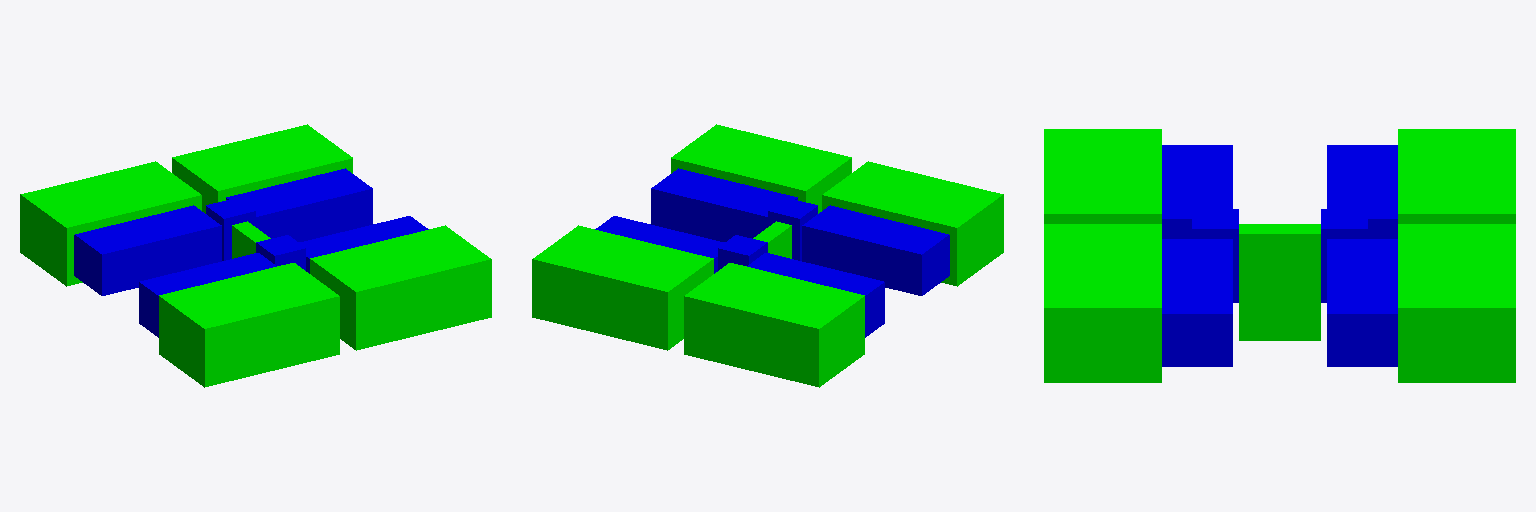
--- Facts derived from the render (not from the file) ---
The picture shows the robot from 3 angles, left to right: view 1: azimuth 30°, elevation 25°; view 2: azimuth 150°, elevation 25°; view 3: azimuth 270°, elevation 25°; orthographic projection.
Robot: robot — 47 links, 46 joints (46 revolute); root link root; default pose: every joint at zero.
Visible links, largest first — view 1: [phone redacted] (×36), 000, 000-100, 000-131; view 2: [phone redacted] (×36), 000, 000-101, 000-130; view 3: [phone redacted] (×36), 000, 010, 000-100, 000-101.
Boxes of the visible links, bbox=[...] form: [phone redacted] (×36): bbox=[20, 124, 491, 387]; 000: bbox=[232, 221, 270, 258]; 000-100: bbox=[219, 208, 255, 260]; 000-131: bbox=[270, 245, 305, 270]; [phone redacted] (×36): bbox=[532, 124, 1003, 387]; 000: bbox=[753, 221, 791, 258]; 000-101: bbox=[768, 208, 804, 260]; 000-130: bbox=[718, 245, 753, 270]; [phone redacted] (×36): bbox=[1044, 129, 1515, 382]; 000: bbox=[1239, 224, 1320, 287]; 010: bbox=[1239, 288, 1320, 340]; 000-100: bbox=[1321, 209, 1332, 302]; 000-101: bbox=[1227, 209, 1238, 302].
Size in the robot's own frame: 3.6 by 4 by 1.1 metres.
Geometry: primitives only (box / cylinder / sphere), no mesh files.

robot.urdf — robot:
<robot name = "robot">
    <link name="root">
        <inertial>
            <origin xyz="0.0 0.0 1.5" rpy="0 0 0"/>
            <mass value="1" />
            <inertia ixx="100" ixy="0" ixz="0" iyy="100" iyz="0" izz="100" />
        </inertial>
        <visual>
            <origin xyz="0.0 0.0 1.5" rpy="0 0 0"/>
            <geometry>
                <box size="0 0 0.0001" />
            </geometry>
            <material name="Green">
                <color rgba="0 1.0 0.0 1.0"/>
            </material>
        </visual>
        <collision>
            <origin xyz="0.0 0.0 1.5" rpy="0 0 0"/>
            <geometry>
                <box size="0 0 0.0001" />
            </geometry>
        </collision>
    </link>
    <joint name="root_000" type="revolute">
       <parent link="root"/>
       <child  link="000"/>
       <origin rpy="0 0 0" xyz="0.0 0.0 1.5" />
     <axis xyz="1 0 0"/>
       <limit effort="0.0" lower="-3.14159" upper="3.14159" velocity="0.0"/>
    </joint>
    <link name="000">
        <inertial>
            <origin xyz="0.0 0.0 -0.25" rpy="0 0 0"/>
            <mass value="1" />
            <inertia ixx="100" ixy="0" ixz="0" iyy="100" iyz="0" izz="100" />
        </inertial>
        <visual>
            <origin xyz="0.0 0.0 -0.25" rpy="0 0 0"/>
            <geometry>
                <box size="0.2 0.7 0.5" />
            </geometry>
            <material name="Green">
                <color rgba="0 1.0 0.0 1.0"/>
            </material>
        </visual>
        <collision>
            <origin xyz="0.0 0.0 -0.25" rpy="0 0 0"/>
            <geometry>
                <box size="0.2 0.7 0.5" />
            </geometry>
        </collision>
    </link>
    <joint name="000_010" type="revolute">
       <parent link="000"/>
       <child  link="010"/>
       <origin rpy="0 0 0" xyz="0.0 0.0 -0.5" />
     <axis xyz="0 0 1"/>
       <limit effort="0.0" lower="-3.14159" upper="3.14159" velocity="0.0"/>
    </joint>
    <link name="010">
        <inertial>
            <origin xyz="0.0 0.0 -0.25" rpy="0 0 0"/>
            <mass value="1" />
            <inertia ixx="100" ixy="0" ixz="0" iyy="100" iyz="0" izz="100" />
        </inertial>
        <visual>
            <origin xyz="0.0 0.0 -0.25" rpy="0 0 0"/>
            <geometry>
                <box size="0.2 0.7 0.5" />
            </geometry>
            <material name="Green">
                <color rgba="0 1.0 0.0 1.0"/>
            </material>
        </visual>
        <collision>
            <origin xyz="0.0 0.0 -0.25" rpy="0 0 0"/>
            <geometry>
                <box size="0.2 0.7 0.5" />
            </geometry>
        </collision>
    </link>
    <joint name="000_000-100" type="revolute">
       <parent link="000"/>
       <child  link="000-100"/>
       <origin rpy="0 0 0" xyz="0.0 0.35 -0.25" />
     <axis xyz="0 1 0"/>
       <limit effort="0.0" lower="-3.14159" upper="3.14159" velocity="0.0"/>
    </joint>
    <link name="000-100">
        <inertial>
            <origin xyz="0.0 0.05 -0.0" rpy="0 0 0"/>
            <mass value="1" />
            <inertia ixx="100" ixy="0" ixz="0" iyy="100" iyz="0" izz="100" />
        </inertial>
        <visual>
            <origin xyz="0.0 0.05 -0.0" rpy="0 0 0"/>
            <geometry>
                <box size="0.4 0.1 0.7" />
            </geometry>
            <material name="Blue">
                <color rgba="0 0.0 1.0 1.0"/>
            </material>
        </visual>
        <collision>
            <origin xyz="0.0 0.05 -0.0" rpy="0 0 0"/>
            <geometry>
                <box size="0.4 0.1 0.7" />
            </geometry>
        </collision>
    </link>
    <joint name="000-100_000-110" type="revolute">
       <parent link="000-100"/>
       <child  link="000-110"/>
       <origin rpy="0 0 0" xyz="0.0 0.1 -0.0" />
     <axis xyz="0 1 0"/>
       <limit effort="0.0" lower="-3.14159" upper="3.14159" velocity="0.0"/>
    </joint>
    <link name="000-110">
        <inertial>
            <origin xyz="0.0 0.05 -0.0" rpy="0 0 0"/>
            <mass value="1" />
            <inertia ixx="100" ixy="0" ixz="0" iyy="100" iyz="0" izz="100" />
        </inertial>
        <visual>
            <origin xyz="0.0 0.05 -0.0" rpy="0 0 0"/>
            <geometry>
                <box size="0.4 0.1 0.7" />
            </geometry>
            <material name="Blue">
                <color rgba="0 0.0 1.0 1.0"/>
            </material>
        </visual>
        <collision>
            <origin xyz="0.0 0.05 -0.0" rpy="0 0 0"/>
            <geometry>
                <box size="0.4 0.1 0.7" />
            </geometry>
        </collision>
    </link>
    <joint name="000-110_000-120" type="revolute">
       <parent link="000-110"/>
       <child  link="000-120"/>
       <origin rpy="0 0 0" xyz="0.0 0.1 -0.0" />
     <axis xyz="0 1 0"/>
       <limit effort="0.0" lower="-3.14159" upper="3.14159" velocity="0.0"/>
    </joint>
    <link name="000-120">
        <inertial>
            <origin xyz="0.0 0.05 -0.0" rpy="0 0 0"/>
            <mass value="1" />
            <inertia ixx="100" ixy="0" ixz="0" iyy="100" iyz="0" izz="100" />
        </inertial>
        <visual>
            <origin xyz="0.0 0.05 -0.0" rpy="0 0 0"/>
            <geometry>
                <box size="0.4 0.1 0.7" />
            </geometry>
            <material name="Blue">
                <color rgba="0 0.0 1.0 1.0"/>
            </material>
        </visual>
        <collision>
            <origin xyz="0.0 0.05 -0.0" rpy="0 0 0"/>
            <geometry>
                <box size="0.4 0.1 0.7" />
            </geometry>
        </collision>
    </link>
    <joint name="000-120_000-130" type="revolute">
       <parent link="000-120"/>
       <child  link="000-130"/>
       <origin rpy="0 0 0" xyz="0.0 0.1 -0.0" />
     <axis xyz="0 1 0"/>
       <limit effort="0.0" lower="-3.14159" upper="3.14159" velocity="0.0"/>
    </joint>
    <link name="000-130">
        <inertial>
            <origin xyz="0.0 0.05 -0.0" rpy="0 0 0"/>
            <mass value="1" />
            <inertia ixx="100" ixy="0" ixz="0" iyy="100" iyz="0" izz="100" />
        </inertial>
        <visual>
            <origin xyz="0.0 0.05 -0.0" rpy="0 0 0"/>
            <geometry>
                <box size="0.4 0.1 0.7" />
            </geometry>
            <material name="Blue">
                <color rgba="0 0.0 1.0 1.0"/>
            </material>
        </visual>
        <collision>
            <origin xyz="0.0 0.05 -0.0" rpy="0 0 0"/>
            <geometry>
                <box size="0.4 0.1 0.7" />
            </geometry>
        </collision>
    </link>
    <joint name="000-130_000-130-200" type="revolute">
       <parent link="000-130"/>
       <child  link="000-130-200"/>
       <origin rpy="0 0 0" xyz="0.2 0.05 -0.0" />
     <axis xyz="1 0 0"/>
       <limit effort="0.0" lower="-3.14159" upper="3.14159" velocity="0.0"/>
    </joint>
    <link name="000-130-200">
        <inertial>
            <origin xyz="0.25 0.0 -0.0" rpy="0 0 0"/>
            <mass value="1" />
            <inertia ixx="100" ixy="0" ixz="0" iyy="100" iyz="0" izz="100" />
        </inertial>
        <visual>
            <origin xyz="0.25 0.0 -0.0" rpy="0 0 0"/>
            <geometry>
                <box size="0.5 0.6 0.5" />
            </geometry>
            <material name="Blue">
                <color rgba="0 0.0 1.0 1.0"/>
            </material>
        </visual>
        <collision>
            <origin xyz="0.25 0.0 -0.0" rpy="0 0 0"/>
            <geometry>
                <box size="0.5 0.6 0.5" />
            </geometry>
        </collision>
    </link>
    <joint name="000-130-200_000-130-210" type="revolute">
       <parent link="000-130-200"/>
       <child  link="000-130-210"/>
       <origin rpy="0 0 0" xyz="0.5 0.0 -0.0" />
     <axis xyz="1 0 0"/>
       <limit effort="0.0" lower="-3.14159" upper="3.14159" velocity="0.0"/>
    </joint>
    <link name="000-130-210">
        <inertial>
            <origin xyz="0.25 0.0 -0.0" rpy="0 0 0"/>
            <mass value="1" />
            <inertia ixx="100" ixy="0" ixz="0" iyy="100" iyz="0" izz="100" />
        </inertial>
        <visual>
            <origin xyz="0.25 0.0 -0.0" rpy="0 0 0"/>
            <geometry>
                <box size="0.5 0.6 0.5" />
            </geometry>
            <material name="Blue">
                <color rgba="0 0.0 1.0 1.0"/>
            </material>
        </visual>
        <collision>
            <origin xyz="0.25 0.0 -0.0" rpy="0 0 0"/>
            <geometry>
                <box size="0.5 0.6 0.5" />
            </geometry>
        </collision>
    </link>
    <joint name="000-130-210_000-130-220" type="revolute">
       <parent link="000-130-210"/>
       <child  link="000-130-220"/>
       <origin rpy="0 0 0" xyz="0.5 0.0 -0.0" />
     <axis xyz="1 0 0"/>
       <limit effort="0.0" lower="-3.14159" upper="3.14159" velocity="0.0"/>
    </joint>
    <link name="000-130-220">
        <inertial>
            <origin xyz="0.25 0.0 -0.0" rpy="0 0 0"/>
            <mass value="1" />
            <inertia ixx="100" ixy="0" ixz="0" iyy="100" iyz="0" izz="100" />
        </inertial>
        <visual>
            <origin xyz="0.25 0.0 -0.0" rpy="0 0 0"/>
            <geometry>
                <box size="0.5 0.6 0.5" />
            </geometry>
            <material name="Blue">
                <color rgba="0 0.0 1.0 1.0"/>
            </material>
        </visual>
        <collision>
            <origin xyz="0.25 0.0 -0.0" rpy="0 0 0"/>
            <geometry>
                <box size="0.5 0.6 0.5" />
            </geometry>
        </collision>
    </link>
    <joint name="000-130-220_000-130-220-300" type="revolute">
       <parent link="000-130-220"/>
       <child  link="000-130-220-300"/>
       <origin rpy="0 0 0" xyz="0.25 0.3 -0.0" />
     <axis xyz="0 1 0"/>
       <limit effort="0.0" lower="-3.14159" upper="3.14159" velocity="0.0"/>
    </joint>
    <link name="000-130-220-300">
        <inertial>
            <origin xyz="0.0 0.25 -0.0" rpy="0 0 0"/>
            <mass value="1" />
            <inertia ixx="100" ixy="0" ixz="0" iyy="100" iyz="0" izz="100" />
        </inertial>
        <visual>
            <origin xyz="0.0 0.25 -0.0" rpy="0 0 0"/>
            <geometry>
                <box size="0.7 0.5 0.7" />
            </geometry>
            <material name="Green">
                <color rgba="0 1.0 0.0 1.0"/>
            </material>
        </visual>
        <collision>
            <origin xyz="0.0 0.25 -0.0" rpy="0 0 0"/>
            <geometry>
                <box size="0.7 0.5 0.7" />
            </geometry>
        </collision>
    </link>
    <joint name="000-130-220-300_000-130-220-310" type="revolute">
       <parent link="000-130-220-300"/>
       <child  link="000-130-220-310"/>
       <origin rpy="0 0 0" xyz="0.0 0.5 -0.0" />
     <axis xyz="0 1 0"/>
       <limit effort="0.0" lower="-3.14159" upper="3.14159" velocity="0.0"/>
    </joint>
    <link name="000-130-220-310">
        <inertial>
            <origin xyz="0.0 0.25 -0.0" rpy="0 0 0"/>
            <mass value="1" />
            <inertia ixx="100" ixy="0" ixz="0" iyy="100" iyz="0" izz="100" />
        </inertial>
        <visual>
            <origin xyz="0.0 0.25 -0.0" rpy="0 0 0"/>
            <geometry>
                <box size="0.7 0.5 0.7" />
            </geometry>
            <material name="Green">
                <color rgba="0 1.0 0.0 1.0"/>
            </material>
        </visual>
        <collision>
            <origin xyz="0.0 0.25 -0.0" rpy="0 0 0"/>
            <geometry>
                <box size="0.7 0.5 0.7" />
            </geometry>
        </collision>
    </link>
    <joint name="000-130-210_000-130-210-300" type="revolute">
       <parent link="000-130-210"/>
       <child  link="000-130-210-300"/>
       <origin rpy="0 0 0" xyz="0.25 0.3 -0.0" />
     <axis xyz="0 1 0"/>
       <limit effort="0.0" lower="-3.14159" upper="3.14159" velocity="0.0"/>
    </joint>
    <link name="000-130-210-300">
        <inertial>
            <origin xyz="0.0 0.25 -0.0" rpy="0 0 0"/>
            <mass value="1" />
            <inertia ixx="100" ixy="0" ixz="0" iyy="100" iyz="0" izz="100" />
        </inertial>
        <visual>
            <origin xyz="0.0 0.25 -0.0" rpy="0 0 0"/>
            <geometry>
                <box size="0.7 0.5 0.7" />
            </geometry>
            <material name="Green">
                <color rgba="0 1.0 0.0 1.0"/>
            </material>
        </visual>
        <collision>
            <origin xyz="0.0 0.25 -0.0" rpy="0 0 0"/>
            <geometry>
                <box size="0.7 0.5 0.7" />
            </geometry>
        </collision>
    </link>
    <joint name="000-130-210-300_000-130-210-310" type="revolute">
       <parent link="000-130-210-300"/>
       <child  link="000-130-210-310"/>
       <origin rpy="0 0 0" xyz="0.0 0.5 -0.0" />
     <axis xyz="0 1 0"/>
       <limit effort="0.0" lower="-3.14159" upper="3.14159" velocity="0.0"/>
    </joint>
    <link name="000-130-210-310">
        <inertial>
            <origin xyz="0.0 0.25 -0.0" rpy="0 0 0"/>
            <mass value="1" />
            <inertia ixx="100" ixy="0" ixz="0" iyy="100" iyz="0" izz="100" />
        </inertial>
        <visual>
            <origin xyz="0.0 0.25 -0.0" rpy="0 0 0"/>
            <geometry>
                <box size="0.7 0.5 0.7" />
            </geometry>
            <material name="Green">
                <color rgba="0 1.0 0.0 1.0"/>
            </material>
        </visual>
        <collision>
            <origin xyz="0.0 0.25 -0.0" rpy="0 0 0"/>
            <geometry>
                <box size="0.7 0.5 0.7" />
            </geometry>
        </collision>
    </link>
    <joint name="000-130-200_000-130-200-300" type="revolute">
       <parent link="000-130-200"/>
       <child  link="000-130-200-300"/>
       <origin rpy="0 0 0" xyz="0.25 0.3 -0.0" />
     <axis xyz="0 1 0"/>
       <limit effort="0.0" lower="-3.14159" upper="3.14159" velocity="0.0"/>
    </joint>
    <link name="000-130-200-300">
        <inertial>
            <origin xyz="0.0 0.25 -0.0" rpy="0 0 0"/>
            <mass value="1" />
            <inertia ixx="100" ixy="0" ixz="0" iyy="100" iyz="0" izz="100" />
        </inertial>
        <visual>
            <origin xyz="0.0 0.25 -0.0" rpy="0 0 0"/>
            <geometry>
                <box size="0.7 0.5 0.7" />
            </geometry>
            <material name="Green">
                <color rgba="0 1.0 0.0 1.0"/>
            </material>
        </visual>
        <collision>
            <origin xyz="0.0 0.25 -0.0" rpy="0 0 0"/>
            <geometry>
                <box size="0.7 0.5 0.7" />
            </geometry>
        </collision>
    </link>
    <joint name="000-130-200-300_000-130-200-310" type="revolute">
       <parent link="000-130-200-300"/>
       <child  link="000-130-200-310"/>
       <origin rpy="0 0 0" xyz="0.0 0.5 -0.0" />
     <axis xyz="0 1 0"/>
       <limit effort="0.0" lower="-3.14159" upper="3.14159" velocity="0.0"/>
    </joint>
    <link name="000-130-200-310">
        <inertial>
            <origin xyz="0.0 0.25 -0.0" rpy="0 0 0"/>
            <mass value="1" />
            <inertia ixx="100" ixy="0" ixz="0" iyy="100" iyz="0" izz="100" />
        </inertial>
        <visual>
            <origin xyz="0.0 0.25 -0.0" rpy="0 0 0"/>
            <geometry>
                <box size="0.7 0.5 0.7" />
            </geometry>
            <material name="Green">
                <color rgba="0 1.0 0.0 1.0"/>
            </material>
        </visual>
        <collision>
            <origin xyz="0.0 0.25 -0.0" rpy="0 0 0"/>
            <geometry>
                <box size="0.7 0.5 0.7" />
            </geometry>
        </collision>
    </link>
    <joint name="000-130_000-130-201" type="revolute">
       <parent link="000-130"/>
       <child  link="000-130-201"/>
       <origin rpy="0 0 0" xyz="-0.2 0.05 -0.0" />
     <axis xyz="1 0 0"/>
       <limit effort="0.0" lower="-3.14159" upper="3.14159" velocity="0.0"/>
    </joint>
    <link name="000-130-201">
        <inertial>
            <origin xyz="-0.25 0.0 -0.0" rpy="0 0 0"/>
            <mass value="1" />
            <inertia ixx="100" ixy="0" ixz="0" iyy="100" iyz="0" izz="100" />
        </inertial>
        <visual>
            <origin xyz="-0.25 0.0 -0.0" rpy="0 0 0"/>
            <geometry>
                <box size="0.5 0.6 0.5" />
            </geometry>
            <material name="Blue">
                <color rgba="0 0.0 1.0 1.0"/>
            </material>
        </visual>
        <collision>
            <origin xyz="-0.25 0.0 -0.0" rpy="0 0 0"/>
            <geometry>
                <box size="0.5 0.6 0.5" />
            </geometry>
        </collision>
    </link>
    <joint name="000-130-201_000-130-211" type="revolute">
       <parent link="000-130-201"/>
       <child  link="000-130-211"/>
       <origin rpy="0 0 0" xyz="-0.5 0.0 -0.0" />
     <axis xyz="1 0 0"/>
       <limit effort="0.0" lower="-3.14159" upper="3.14159" velocity="0.0"/>
    </joint>
    <link name="000-130-211">
        <inertial>
            <origin xyz="-0.25 0.0 -0.0" rpy="0 0 0"/>
            <mass value="1" />
            <inertia ixx="100" ixy="0" ixz="0" iyy="100" iyz="0" izz="100" />
        </inertial>
        <visual>
            <origin xyz="-0.25 0.0 -0.0" rpy="0 0 0"/>
            <geometry>
                <box size="0.5 0.6 0.5" />
            </geometry>
            <material name="Blue">
                <color rgba="0 0.0 1.0 1.0"/>
            </material>
        </visual>
        <collision>
            <origin xyz="-0.25 0.0 -0.0" rpy="0 0 0"/>
            <geometry>
                <box size="0.5 0.6 0.5" />
            </geometry>
        </collision>
    </link>
    <joint name="000-130-211_000-130-221" type="revolute">
       <parent link="000-130-211"/>
       <child  link="000-130-221"/>
       <origin rpy="0 0 0" xyz="-0.5 0.0 -0.0" />
     <axis xyz="1 0 0"/>
       <limit effort="0.0" lower="-3.14159" upper="3.14159" velocity="0.0"/>
    </joint>
    <link name="000-130-221">
        <inertial>
            <origin xyz="-0.25 0.0 -0.0" rpy="0 0 0"/>
            <mass value="1" />
            <inertia ixx="100" ixy="0" ixz="0" iyy="100" iyz="0" izz="100" />
        </inertial>
        <visual>
            <origin xyz="-0.25 0.0 -0.0" rpy="0 0 0"/>
            <geometry>
                <box size="0.5 0.6 0.5" />
            </geometry>
            <material name="Blue">
                <color rgba="0 0.0 1.0 1.0"/>
            </material>
        </visual>
        <collision>
            <origin xyz="-0.25 0.0 -0.0" rpy="0 0 0"/>
            <geometry>
                <box size="0.5 0.6 0.5" />
            </geometry>
        </collision>
    </link>
    <joint name="000-130-221_000-130-221-300" type="revolute">
       <parent link="000-130-221"/>
       <child  link="000-130-221-300"/>
       <origin rpy="0 0 0" xyz="-0.25 0.3 -0.0" />
     <axis xyz="0 1 0"/>
       <limit effort="0.0" lower="-3.14159" upper="3.14159" velocity="0.0"/>
    </joint>
    <link name="000-130-221-300">
        <inertial>
            <origin xyz="-0.0 0.25 -0.0" rpy="0 0 0"/>
            <mass value="1" />
            <inertia ixx="100" ixy="0" ixz="0" iyy="100" iyz="0" izz="100" />
        </inertial>
        <visual>
            <origin xyz="-0.0 0.25 -0.0" rpy="0 0 0"/>
            <geometry>
                <box size="0.7 0.5 0.7" />
            </geometry>
            <material name="Green">
                <color rgba="0 1.0 0.0 1.0"/>
            </material>
        </visual>
        <collision>
            <origin xyz="-0.0 0.25 -0.0" rpy="0 0 0"/>
            <geometry>
                <box size="0.7 0.5 0.7" />
            </geometry>
        </collision>
    </link>
    <joint name="000-130-221-300_000-130-221-310" type="revolute">
       <parent link="000-130-221-300"/>
       <child  link="000-130-221-310"/>
       <origin rpy="0 0 0" xyz="-0.0 0.5 -0.0" />
     <axis xyz="0 1 0"/>
       <limit effort="0.0" lower="-3.14159" upper="3.14159" velocity="0.0"/>
    </joint>
    <link name="000-130-221-310">
        <inertial>
            <origin xyz="-0.0 0.25 -0.0" rpy="0 0 0"/>
            <mass value="1" />
            <inertia ixx="100" ixy="0" ixz="0" iyy="100" iyz="0" izz="100" />
        </inertial>
        <visual>
            <origin xyz="-0.0 0.25 -0.0" rpy="0 0 0"/>
            <geometry>
                <box size="0.7 0.5 0.7" />
            </geometry>
            <material name="Green">
                <color rgba="0 1.0 0.0 1.0"/>
            </material>
        </visual>
        <collision>
            <origin xyz="-0.0 0.25 -0.0" rpy="0 0 0"/>
            <geometry>
                <box size="0.7 0.5 0.7" />
            </geometry>
        </collision>
    </link>
    <joint name="000-130-211_000-130-211-300" type="revolute">
       <parent link="000-130-211"/>
       <child  link="000-130-211-300"/>
       <origin rpy="0 0 0" xyz="-0.25 0.3 -0.0" />
     <axis xyz="0 1 0"/>
       <limit effort="0.0" lower="-3.14159" upper="3.14159" velocity="0.0"/>
    </joint>
    <link name="000-130-211-300">
        <inertial>
            <origin xyz="-0.0 0.25 -0.0" rpy="0 0 0"/>
            <mass value="1" />
            <inertia ixx="100" ixy="0" ixz="0" iyy="100" iyz="0" izz="100" />
        </inertial>
        <visual>
            <origin xyz="-0.0 0.25 -0.0" rpy="0 0 0"/>
            <geometry>
                <box size="0.7 0.5 0.7" />
            </geometry>
            <material name="Green">
                <color rgba="0 1.0 0.0 1.0"/>
            </material>
        </visual>
        <collision>
            <origin xyz="-0.0 0.25 -0.0" rpy="0 0 0"/>
            <geometry>
                <box size="0.7 0.5 0.7" />
            </geometry>
        </collision>
    </link>
    <joint name="000-130-211-300_000-130-211-310" type="revolute">
       <parent link="000-130-211-300"/>
       <child  link="000-130-211-310"/>
       <origin rpy="0 0 0" xyz="-0.0 0.5 -0.0" />
     <axis xyz="0 1 0"/>
       <limit effort="0.0" lower="-3.14159" upper="3.14159" velocity="0.0"/>
    </joint>
    <link name="000-130-211-310">
        <inertial>
            <origin xyz="-0.0 0.25 -0.0" rpy="0 0 0"/>
            <mass value="1" />
            <inertia ixx="100" ixy="0" ixz="0" iyy="100" iyz="0" izz="100" />
        </inertial>
        <visual>
            <origin xyz="-0.0 0.25 -0.0" rpy="0 0 0"/>
            <geometry>
                <box size="0.7 0.5 0.7" />
            </geometry>
            <material name="Green">
                <color rgba="0 1.0 0.0 1.0"/>
            </material>
        </visual>
        <collision>
            <origin xyz="-0.0 0.25 -0.0" rpy="0 0 0"/>
            <geometry>
                <box size="0.7 0.5 0.7" />
            </geometry>
        </collision>
    </link>
    <joint name="000-130-201_000-130-201-300" type="revolute">
       <parent link="000-130-201"/>
       <child  link="000-130-201-300"/>
       <origin rpy="0 0 0" xyz="-0.25 0.3 -0.0" />
     <axis xyz="0 1 0"/>
       <limit effort="0.0" lower="-3.14159" upper="3.14159" velocity="0.0"/>
    </joint>
    <link name="000-130-201-300">
        <inertial>
            <origin xyz="-0.0 0.25 -0.0" rpy="0 0 0"/>
            <mass value="1" />
            <inertia ixx="100" ixy="0" ixz="0" iyy="100" iyz="0" izz="100" />
        </inertial>
        <visual>
            <origin xyz="-0.0 0.25 -0.0" rpy="0 0 0"/>
            <geometry>
                <box size="0.7 0.5 0.7" />
            </geometry>
            <material name="Green">
                <color rgba="0 1.0 0.0 1.0"/>
            </material>
        </visual>
        <collision>
            <origin xyz="-0.0 0.25 -0.0" rpy="0 0 0"/>
            <geometry>
                <box size="0.7 0.5 0.7" />
            </geometry>
        </collision>
    </link>
    <joint name="000-130-201-300_000-130-201-310" type="revolute">
       <parent link="000-130-201-300"/>
       <child  link="000-130-201-310"/>
       <origin rpy="0 0 0" xyz="-0.0 0.5 -0.0" />
     <axis xyz="0 1 0"/>
       <limit effort="0.0" lower="-3.14159" upper="3.14159" velocity="0.0"/>
    </joint>
    <link name="000-130-201-310">
        <inertial>
            <origin xyz="-0.0 0.25 -0.0" rpy="0 0 0"/>
            <mass value="1" />
            <inertia ixx="100" ixy="0" ixz="0" iyy="100" iyz="0" izz="100" />
        </inertial>
        <visual>
            <origin xyz="-0.0 0.25 -0.0" rpy="0 0 0"/>
            <geometry>
                <box size="0.7 0.5 0.7" />
            </geometry>
            <material name="Green">
                <color rgba="0 1.0 0.0 1.0"/>
            </material>
        </visual>
        <collision>
            <origin xyz="-0.0 0.25 -0.0" rpy="0 0 0"/>
            <geometry>
                <box size="0.7 0.5 0.7" />
            </geometry>
        </collision>
    </link>
    <joint name="000_000-101" type="revolute">
       <parent link="000"/>
       <child  link="000-101"/>
       <origin rpy="0 0 0" xyz="0.0 -0.35 -0.25" />
     <axis xyz="0 1 0"/>
       <limit effort="0.0" lower="-3.14159" upper="3.14159" velocity="0.0"/>
    </joint>
    <link name="000-101">
        <inertial>
            <origin xyz="0.0 -0.05 -0.0" rpy="0 0 0"/>
            <mass value="1" />
            <inertia ixx="100" ixy="0" ixz="0" iyy="100" iyz="0" izz="100" />
        </inertial>
        <visual>
            <origin xyz="0.0 -0.05 -0.0" rpy="0 0 0"/>
            <geometry>
                <box size="0.4 0.1 0.7" />
            </geometry>
            <material name="Blue">
                <color rgba="0 0.0 1.0 1.0"/>
            </material>
        </visual>
        <collision>
            <origin xyz="0.0 -0.05 -0.0" rpy="0 0 0"/>
            <geometry>
                <box size="0.4 0.1 0.7" />
            </geometry>
        </collision>
    </link>
    <joint name="000-101_000-111" type="revolute">
       <parent link="000-101"/>
       <child  link="000-111"/>
       <origin rpy="0 0 0" xyz="0.0 -0.1 -0.0" />
     <axis xyz="0 1 0"/>
       <limit effort="0.0" lower="-3.14159" upper="3.14159" velocity="0.0"/>
    </joint>
    <link name="000-111">
        <inertial>
            <origin xyz="0.0 -0.05 -0.0" rpy="0 0 0"/>
            <mass value="1" />
            <inertia ixx="100" ixy="0" ixz="0" iyy="100" iyz="0" izz="100" />
        </inertial>
        <visual>
            <origin xyz="0.0 -0.05 -0.0" rpy="0 0 0"/>
            <geometry>
                <box size="0.4 0.1 0.7" />
            </geometry>
            <material name="Blue">
                <color rgba="0 0.0 1.0 1.0"/>
            </material>
        </visual>
        <collision>
            <origin xyz="0.0 -0.05 -0.0" rpy="0 0 0"/>
            <geometry>
                <box size="0.4 0.1 0.7" />
            </geometry>
        </collision>
    </link>
    <joint name="000-111_000-121" type="revolute">
       <parent link="000-111"/>
       <child  link="000-121"/>
       <origin rpy="0 0 0" xyz="0.0 -0.1 -0.0" />
     <axis xyz="0 1 0"/>
       <limit effort="0.0" lower="-3.14159" upper="3.14159" velocity="0.0"/>
    </joint>
    <link name="000-121">
        <inertial>
            <origin xyz="0.0 -0.05 -0.0" rpy="0 0 0"/>
            <mass value="1" />
            <inertia ixx="100" ixy="0" ixz="0" iyy="100" iyz="0" izz="100" />
        </inertial>
        <visual>
            <origin xyz="0.0 -0.05 -0.0" rpy="0 0 0"/>
            <geometry>
                <box size="0.4 0.1 0.7" />
            </geometry>
            <material name="Blue">
                <color rgba="0 0.0 1.0 1.0"/>
            </material>
        </visual>
        <collision>
            <origin xyz="0.0 -0.05 -0.0" rpy="0 0 0"/>
            <geometry>
                <box size="0.4 0.1 0.7" />
            </geometry>
        </collision>
    </link>
    <joint name="000-121_000-131" type="revolute">
       <parent link="000-121"/>
       <child  link="000-131"/>
       <origin rpy="0 0 0" xyz="0.0 -0.1 -0.0" />
     <axis xyz="0 1 0"/>
       <limit effort="0.0" lower="-3.14159" upper="3.14159" velocity="0.0"/>
    </joint>
    <link name="000-131">
        <inertial>
            <origin xyz="0.0 -0.05 -0.0" rpy="0 0 0"/>
            <mass value="1" />
            <inertia ixx="100" ixy="0" ixz="0" iyy="100" iyz="0" izz="100" />
        </inertial>
        <visual>
            <origin xyz="0.0 -0.05 -0.0" rpy="0 0 0"/>
            <geometry>
                <box size="0.4 0.1 0.7" />
            </geometry>
            <material name="Blue">
                <color rgba="0 0.0 1.0 1.0"/>
            </material>
        </visual>
        <collision>
            <origin xyz="0.0 -0.05 -0.0" rpy="0 0 0"/>
            <geometry>
                <box size="0.4 0.1 0.7" />
            </geometry>
        </collision>
    </link>
    <joint name="000-131_000-131-200" type="revolute">
       <parent link="000-131"/>
       <child  link="000-131-200"/>
       <origin rpy="0 0 0" xyz="0.2 -0.05 -0.0" />
     <axis xyz="1 0 0"/>
       <limit effort="0.0" lower="-3.14159" upper="3.14159" velocity="0.0"/>
    </joint>
    <link name="000-131-200">
        <inertial>
            <origin xyz="0.25 -0.0 -0.0" rpy="0 0 0"/>
            <mass value="1" />
            <inertia ixx="100" ixy="0" ixz="0" iyy="100" iyz="0" izz="100" />
        </inertial>
        <visual>
            <origin xyz="0.25 -0.0 -0.0" rpy="0 0 0"/>
            <geometry>
                <box size="0.5 0.6 0.5" />
            </geometry>
            <material name="Blue">
                <color rgba="0 0.0 1.0 1.0"/>
            </material>
        </visual>
        <collision>
            <origin xyz="0.25 -0.0 -0.0" rpy="0 0 0"/>
            <geometry>
                <box size="0.5 0.6 0.5" />
            </geometry>
        </collision>
    </link>
    <joint name="000-131-200_000-131-210" type="revolute">
       <parent link="000-131-200"/>
       <child  link="000-131-210"/>
       <origin rpy="0 0 0" xyz="0.5 -0.0 -0.0" />
     <axis xyz="1 0 0"/>
       <limit effort="0.0" lower="-3.14159" upper="3.14159" velocity="0.0"/>
    </joint>
    <link name="000-131-210">
        <inertial>
            <origin xyz="0.25 -0.0 -0.0" rpy="0 0 0"/>
            <mass value="1" />
            <inertia ixx="100" ixy="0" ixz="0" iyy="100" iyz="0" izz="100" />
        </inertial>
        <visual>
            <origin xyz="0.25 -0.0 -0.0" rpy="0 0 0"/>
            <geometry>
                <box size="0.5 0.6 0.5" />
            </geometry>
            <material name="Blue">
                <color rgba="0 0.0 1.0 1.0"/>
            </material>
        </visual>
        <collision>
            <origin xyz="0.25 -0.0 -0.0" rpy="0 0 0"/>
            <geometry>
                <box size="0.5 0.6 0.5" />
            </geometry>
        </collision>
    </link>
    <joint name="000-131-210_000-131-220" type="revolute">
       <parent link="000-131-210"/>
       <child  link="000-131-220"/>
       <origin rpy="0 0 0" xyz="0.5 -0.0 -0.0" />
     <axis xyz="1 0 0"/>
       <limit effort="0.0" lower="-3.14159" upper="3.14159" velocity="0.0"/>
    </joint>
    <link name="000-131-220">
        <inertial>
            <origin xyz="0.25 -0.0 -0.0" rpy="0 0 0"/>
            <mass value="1" />
            <inertia ixx="100" ixy="0" ixz="0" iyy="100" iyz="0" izz="100" />
        </inertial>
        <visual>
            <origin xyz="0.25 -0.0 -0.0" rpy="0 0 0"/>
            <geometry>
                <box size="0.5 0.6 0.5" />
            </geometry>
            <material name="Blue">
                <color rgba="0 0.0 1.0 1.0"/>
            </material>
        </visual>
        <collision>
            <origin xyz="0.25 -0.0 -0.0" rpy="0 0 0"/>
            <geometry>
                <box size="0.5 0.6 0.5" />
            </geometry>
        </collision>
    </link>
    <joint name="000-131-220_000-131-220-300" type="revolute">
       <parent link="000-131-220"/>
       <child  link="000-131-220-300"/>
       <origin rpy="0 0 0" xyz="0.25 -0.3 -0.0" />
     <axis xyz="0 1 0"/>
       <limit effort="0.0" lower="-3.14159" upper="3.14159" velocity="0.0"/>
    </joint>
    <link name="000-131-220-300">
        <inertial>
            <origin xyz="0.0 -0.25 -0.0" rpy="0 0 0"/>
            <mass value="1" />
            <inertia ixx="100" ixy="0" ixz="0" iyy="100" iyz="0" izz="100" />
        </inertial>
        <visual>
            <origin xyz="0.0 -0.25 -0.0" rpy="0 0 0"/>
            <geometry>
                <box size="0.7 0.5 0.7" />
            </geometry>
            <material name="Green">
                <color rgba="0 1.0 0.0 1.0"/>
            </material>
        </visual>
        <collision>
            <origin xyz="0.0 -0.25 -0.0" rpy="0 0 0"/>
            <geometry>
                <box size="0.7 0.5 0.7" />
            </geometry>
        </collision>
    </link>
    <joint name="000-131-220-300_000-131-220-310" type="revolute">
       <parent link="000-131-220-300"/>
       <child  link="000-131-220-310"/>
       <origin rpy="0 0 0" xyz="0.0 -0.5 -0.0" />
     <axis xyz="0 1 0"/>
       <limit effort="0.0" lower="-3.14159" upper="3.14159" velocity="0.0"/>
    </joint>
    <link name="000-131-220-310">
        <inertial>
            <origin xyz="0.0 -0.25 -0.0" rpy="0 0 0"/>
            <mass value="1" />
            <inertia ixx="100" ixy="0" ixz="0" iyy="100" iyz="0" izz="100" />
        </inertial>
        <visual>
            <origin xyz="0.0 -0.25 -0.0" rpy="0 0 0"/>
            <geometry>
                <box size="0.7 0.5 0.7" />
            </geometry>
            <material name="Green">
                <color rgba="0 1.0 0.0 1.0"/>
            </material>
        </visual>
        <collision>
            <origin xyz="0.0 -0.25 -0.0" rpy="0 0 0"/>
            <geometry>
                <box size="0.7 0.5 0.7" />
            </geometry>
        </collision>
    </link>
    <joint name="000-131-210_000-131-210-300" type="revolute">
       <parent link="000-131-210"/>
       <child  link="000-131-210-300"/>
       <origin rpy="0 0 0" xyz="0.25 -0.3 -0.0" />
     <axis xyz="0 1 0"/>
       <limit effort="0.0" lower="-3.14159" upper="3.14159" velocity="0.0"/>
    </joint>
    <link name="000-131-210-300">
        <inertial>
            <origin xyz="0.0 -0.25 -0.0" rpy="0 0 0"/>
            <mass value="1" />
            <inertia ixx="100" ixy="0" ixz="0" iyy="100" iyz="0" izz="100" />
        </inertial>
        <visual>
            <origin xyz="0.0 -0.25 -0.0" rpy="0 0 0"/>
            <geometry>
                <box size="0.7 0.5 0.7" />
            </geometry>
            <material name="Green">
                <color rgba="0 1.0 0.0 1.0"/>
            </material>
        </visual>
        <collision>
            <origin xyz="0.0 -0.25 -0.0" rpy="0 0 0"/>
            <geometry>
                <box size="0.7 0.5 0.7" />
            </geometry>
        </collision>
    </link>
    <joint name="000-131-210-300_000-131-210-310" type="revolute">
       <parent link="000-131-210-300"/>
       <child  link="000-131-210-310"/>
       <origin rpy="0 0 0" xyz="0.0 -0.5 -0.0" />
     <axis xyz="0 1 0"/>
       <limit effort="0.0" lower="-3.14159" upper="3.14159" velocity="0.0"/>
    </joint>
    <link name="000-131-210-310">
        <inertial>
            <origin xyz="0.0 -0.25 -0.0" rpy="0 0 0"/>
            <mass value="1" />
            <inertia ixx="100" ixy="0" ixz="0" iyy="100" iyz="0" izz="100" />
        </inertial>
        <visual>
            <origin xyz="0.0 -0.25 -0.0" rpy="0 0 0"/>
            <geometry>
                <box size="0.7 0.5 0.7" />
            </geometry>
            <material name="Green">
                <color rgba="0 1.0 0.0 1.0"/>
            </material>
        </visual>
        <collision>
            <origin xyz="0.0 -0.25 -0.0" rpy="0 0 0"/>
            <geometry>
                <box size="0.7 0.5 0.7" />
            </geometry>
        </collision>
    </link>
    <joint name="000-131-200_000-131-200-300" type="revolute">
       <parent link="000-131-200"/>
       <child  link="000-131-200-300"/>
       <origin rpy="0 0 0" xyz="0.25 -0.3 -0.0" />
     <axis xyz="0 1 0"/>
       <limit effort="0.0" lower="-3.14159" upper="3.14159" velocity="0.0"/>
    </joint>
    <link name="000-131-200-300">
        <inertial>
            <origin xyz="0.0 -0.25 -0.0" rpy="0 0 0"/>
            <mass value="1" />
            <inertia ixx="100" ixy="0" ixz="0" iyy="100" iyz="0" izz="100" />
        </inertial>
        <visual>
            <origin xyz="0.0 -0.25 -0.0" rpy="0 0 0"/>
            <geometry>
                <box size="0.7 0.5 0.7" />
            </geometry>
            <material name="Green">
                <color rgba="0 1.0 0.0 1.0"/>
            </material>
        </visual>
        <collision>
            <origin xyz="0.0 -0.25 -0.0" rpy="0 0 0"/>
            <geometry>
                <box size="0.7 0.5 0.7" />
            </geometry>
        </collision>
    </link>
    <joint name="000-131-200-300_000-131-200-310" type="revolute">
       <parent link="000-131-200-300"/>
       <child  link="000-131-200-310"/>
       <origin rpy="0 0 0" xyz="0.0 -0.5 -0.0" />
     <axis xyz="0 1 0"/>
       <limit effort="0.0" lower="-3.14159" upper="3.14159" velocity="0.0"/>
    </joint>
    <link name="000-131-200-310">
        <inertial>
            <origin xyz="0.0 -0.25 -0.0" rpy="0 0 0"/>
            <mass value="1" />
            <inertia ixx="100" ixy="0" ixz="0" iyy="100" iyz="0" izz="100" />
        </inertial>
        <visual>
            <origin xyz="0.0 -0.25 -0.0" rpy="0 0 0"/>
            <geometry>
                <box size="0.7 0.5 0.7" />
            </geometry>
            <material name="Green">
                <color rgba="0 1.0 0.0 1.0"/>
            </material>
        </visual>
        <collision>
            <origin xyz="0.0 -0.25 -0.0" rpy="0 0 0"/>
            <geometry>
                <box size="0.7 0.5 0.7" />
            </geometry>
        </collision>
    </link>
    <joint name="000-131_000-131-201" type="revolute">
       <parent link="000-131"/>
       <child  link="000-131-201"/>
       <origin rpy="0 0 0" xyz="-0.2 -0.05 -0.0" />
     <axis xyz="1 0 0"/>
       <limit effort="0.0" lower="-3.14159" upper="3.14159" velocity="0.0"/>
    </joint>
    <link name="000-131-201">
        <inertial>
            <origin xyz="-0.25 -0.0 -0.0" rpy="0 0 0"/>
            <mass value="1" />
            <inertia ixx="100" ixy="0" ixz="0" iyy="100" iyz="0" izz="100" />
        </inertial>
        <visual>
            <origin xyz="-0.25 -0.0 -0.0" rpy="0 0 0"/>
            <geometry>
                <box size="0.5 0.6 0.5" />
            </geometry>
            <material name="Blue">
                <color rgba="0 0.0 1.0 1.0"/>
            </material>
        </visual>
        <collision>
            <origin xyz="-0.25 -0.0 -0.0" rpy="0 0 0"/>
            <geometry>
                <box size="0.5 0.6 0.5" />
            </geometry>
        </collision>
    </link>
    <joint name="000-131-201_000-131-211" type="revolute">
       <parent link="000-131-201"/>
       <child  link="000-131-211"/>
       <origin rpy="0 0 0" xyz="-0.5 -0.0 -0.0" />
     <axis xyz="1 0 0"/>
       <limit effort="0.0" lower="-3.14159" upper="3.14159" velocity="0.0"/>
    </joint>
    <link name="000-131-211">
        <inertial>
            <origin xyz="-0.25 -0.0 -0.0" rpy="0 0 0"/>
            <mass value="1" />
            <inertia ixx="100" ixy="0" ixz="0" iyy="100" iyz="0" izz="100" />
        </inertial>
        <visual>
            <origin xyz="-0.25 -0.0 -0.0" rpy="0 0 0"/>
            <geometry>
                <box size="0.5 0.6 0.5" />
            </geometry>
            <material name="Blue">
                <color rgba="0 0.0 1.0 1.0"/>
            </material>
        </visual>
        <collision>
            <origin xyz="-0.25 -0.0 -0.0" rpy="0 0 0"/>
            <geometry>
                <box size="0.5 0.6 0.5" />
            </geometry>
        </collision>
    </link>
    <joint name="000-131-211_000-131-221" type="revolute">
       <parent link="000-131-211"/>
       <child  link="000-131-221"/>
       <origin rpy="0 0 0" xyz="-0.5 -0.0 -0.0" />
     <axis xyz="1 0 0"/>
       <limit effort="0.0" lower="-3.14159" upper="3.14159" velocity="0.0"/>
    </joint>
    <link name="000-131-221">
        <inertial>
            <origin xyz="-0.25 -0.0 -0.0" rpy="0 0 0"/>
            <mass value="1" />
            <inertia ixx="100" ixy="0" ixz="0" iyy="100" iyz="0" izz="100" />
        </inertial>
        <visual>
            <origin xyz="-0.25 -0.0 -0.0" rpy="0 0 0"/>
            <geometry>
                <box size="0.5 0.6 0.5" />
            </geometry>
            <material name="Blue">
                <color rgba="0 0.0 1.0 1.0"/>
            </material>
        </visual>
        <collision>
            <origin xyz="-0.25 -0.0 -0.0" rpy="0 0 0"/>
            <geometry>
                <box size="0.5 0.6 0.5" />
            </geometry>
        </collision>
    </link>
    <joint name="000-131-221_000-131-221-300" type="revolute">
       <parent link="000-131-221"/>
       <child  link="000-131-221-300"/>
       <origin rpy="0 0 0" xyz="-0.25 -0.3 -0.0" />
     <axis xyz="0 1 0"/>
       <limit effort="0.0" lower="-3.14159" upper="3.14159" velocity="0.0"/>
    </joint>
    <link name="000-131-221-300">
        <inertial>
            <origin xyz="-0.0 -0.25 -0.0" rpy="0 0 0"/>
            <mass value="1" />
            <inertia ixx="100" ixy="0" ixz="0" iyy="100" iyz="0" izz="100" />
        </inertial>
        <visual>
            <origin xyz="-0.0 -0.25 -0.0" rpy="0 0 0"/>
            <geometry>
                <box size="0.7 0.5 0.7" />
            </geometry>
            <material name="Green">
                <color rgba="0 1.0 0.0 1.0"/>
            </material>
        </visual>
        <collision>
            <origin xyz="-0.0 -0.25 -0.0" rpy="0 0 0"/>
            <geometry>
                <box size="0.7 0.5 0.7" />
            </geometry>
        </collision>
    </link>
    <joint name="000-131-221-300_000-131-221-310" type="revolute">
       <parent link="000-131-221-300"/>
       <child  link="000-131-221-310"/>
       <origin rpy="0 0 0" xyz="-0.0 -0.5 -0.0" />
     <axis xyz="0 1 0"/>
       <limit effort="0.0" lower="-3.14159" upper="3.14159" velocity="0.0"/>
    </joint>
    <link name="000-131-221-310">
        <inertial>
            <origin xyz="-0.0 -0.25 -0.0" rpy="0 0 0"/>
            <mass value="1" />
            <inertia ixx="100" ixy="0" ixz="0" iyy="100" iyz="0" izz="100" />
        </inertial>
        <visual>
            <origin xyz="-0.0 -0.25 -0.0" rpy="0 0 0"/>
            <geometry>
                <box size="0.7 0.5 0.7" />
            </geometry>
            <material name="Green">
                <color rgba="0 1.0 0.0 1.0"/>
            </material>
        </visual>
        <collision>
            <origin xyz="-0.0 -0.25 -0.0" rpy="0 0 0"/>
            <geometry>
                <box size="0.7 0.5 0.7" />
            </geometry>
        </collision>
    </link>
    <joint name="000-131-211_000-131-211-300" type="revolute">
       <parent link="000-131-211"/>
       <child  link="000-131-211-300"/>
       <origin rpy="0 0 0" xyz="-0.25 -0.3 -0.0" />
     <axis xyz="0 1 0"/>
       <limit effort="0.0" lower="-3.14159" upper="3.14159" velocity="0.0"/>
    </joint>
    <link name="000-131-211-300">
        <inertial>
            <origin xyz="-0.0 -0.25 -0.0" rpy="0 0 0"/>
            <mass value="1" />
            <inertia ixx="100" ixy="0" ixz="0" iyy="100" iyz="0" izz="100" />
        </inertial>
        <visual>
            <origin xyz="-0.0 -0.25 -0.0" rpy="0 0 0"/>
            <geometry>
                <box size="0.7 0.5 0.7" />
            </geometry>
            <material name="Green">
                <color rgba="0 1.0 0.0 1.0"/>
            </material>
        </visual>
        <collision>
            <origin xyz="-0.0 -0.25 -0.0" rpy="0 0 0"/>
            <geometry>
                <box size="0.7 0.5 0.7" />
            </geometry>
        </collision>
    </link>
    <joint name="000-131-211-300_000-131-211-310" type="revolute">
       <parent link="000-131-211-300"/>
       <child  link="000-131-211-310"/>
       <origin rpy="0 0 0" xyz="-0.0 -0.5 -0.0" />
     <axis xyz="0 1 0"/>
       <limit effort="0.0" lower="-3.14159" upper="3.14159" velocity="0.0"/>
    </joint>
    <link name="000-131-211-310">
        <inertial>
            <origin xyz="-0.0 -0.25 -0.0" rpy="0 0 0"/>
            <mass value="1" />
            <inertia ixx="100" ixy="0" ixz="0" iyy="100" iyz="0" izz="100" />
        </inertial>
        <visual>
            <origin xyz="-0.0 -0.25 -0.0" rpy="0 0 0"/>
            <geometry>
                <box size="0.7 0.5 0.7" />
            </geometry>
            <material name="Green">
                <color rgba="0 1.0 0.0 1.0"/>
            </material>
        </visual>
        <collision>
            <origin xyz="-0.0 -0.25 -0.0" rpy="0 0 0"/>
            <geometry>
                <box size="0.7 0.5 0.7" />
            </geometry>
        </collision>
    </link>
    <joint name="000-131-201_000-131-201-300" type="revolute">
       <parent link="000-131-201"/>
       <child  link="000-131-201-300"/>
       <origin rpy="0 0 0" xyz="-0.25 -0.3 -0.0" />
     <axis xyz="0 1 0"/>
       <limit effort="0.0" lower="-3.14159" upper="3.14159" velocity="0.0"/>
    </joint>
    <link name="000-131-201-300">
        <inertial>
            <origin xyz="-0.0 -0.25 -0.0" rpy="0 0 0"/>
            <mass value="1" />
            <inertia ixx="100" ixy="0" ixz="0" iyy="100" iyz="0" izz="100" />
        </inertial>
        <visual>
            <origin xyz="-0.0 -0.25 -0.0" rpy="0 0 0"/>
            <geometry>
                <box size="0.7 0.5 0.7" />
            </geometry>
            <material name="Green">
                <color rgba="0 1.0 0.0 1.0"/>
            </material>
        </visual>
        <collision>
            <origin xyz="-0.0 -0.25 -0.0" rpy="0 0 0"/>
            <geometry>
                <box size="0.7 0.5 0.7" />
            </geometry>
        </collision>
    </link>
    <joint name="000-131-201-300_000-131-201-310" type="revolute">
       <parent link="000-131-201-300"/>
       <child  link="000-131-201-310"/>
       <origin rpy="0 0 0" xyz="-0.0 -0.5 -0.0" />
     <axis xyz="0 1 0"/>
       <limit effort="0.0" lower="-3.14159" upper="3.14159" velocity="0.0"/>
    </joint>
    <link name="000-131-201-310">
        <inertial>
            <origin xyz="-0.0 -0.25 -0.0" rpy="0 0 0"/>
            <mass value="1" />
            <inertia ixx="100" ixy="0" ixz="0" iyy="100" iyz="0" izz="100" />
        </inertial>
        <visual>
            <origin xyz="-0.0 -0.25 -0.0" rpy="0 0 0"/>
            <geometry>
                <box size="0.7 0.5 0.7" />
            </geometry>
            <material name="Green">
                <color rgba="0 1.0 0.0 1.0"/>
            </material>
        </visual>
        <collision>
            <origin xyz="-0.0 -0.25 -0.0" rpy="0 0 0"/>
            <geometry>
                <box size="0.7 0.5 0.7" />
            </geometry>
        </collision>
    </link>
</robot>
